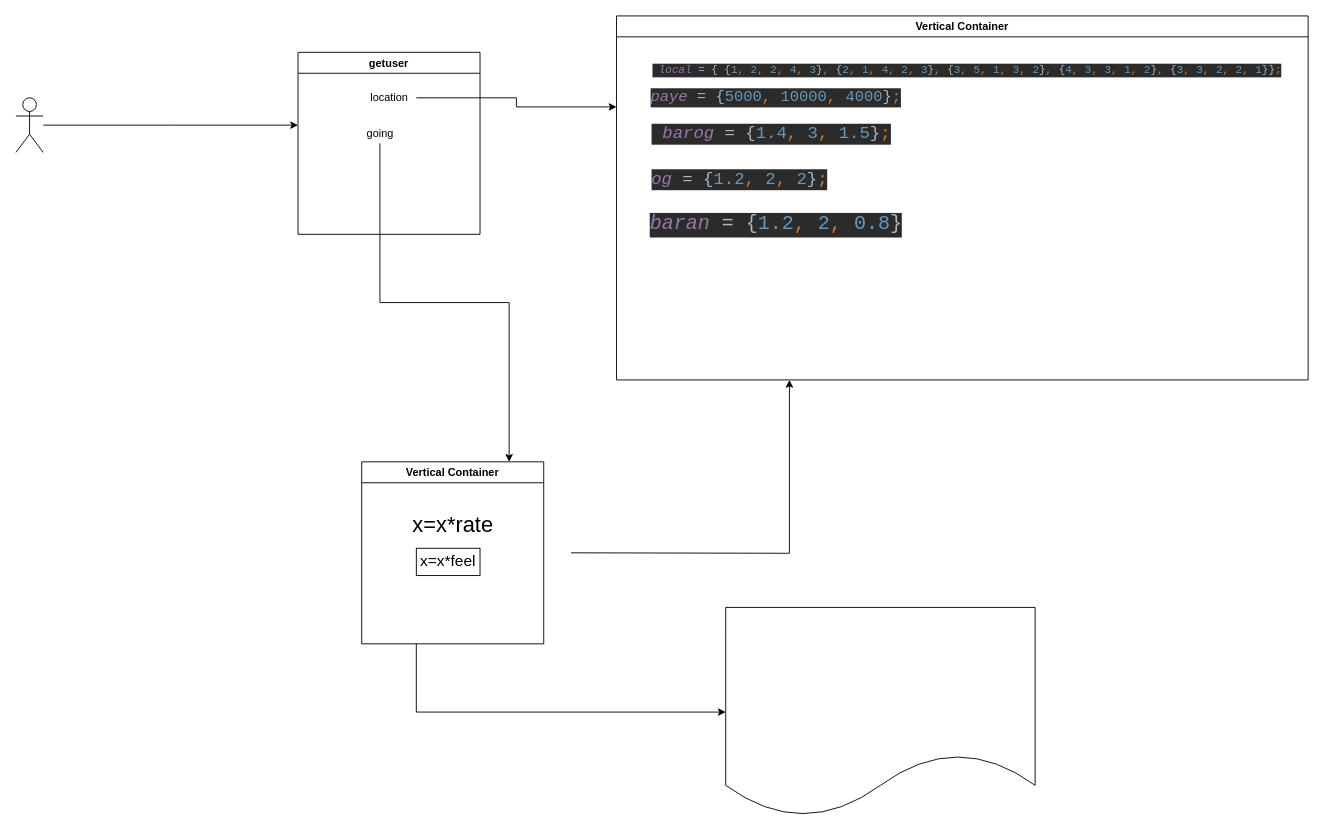
The diagram is 1324 pixels wide and 833 high, and some of its shapes have lost their labels. The shapes that lost their labels are listed below. From the top down, each one's centre as x and y in pixels, then its label:
At [29,124]: "Actor".
At [880,712]: "print payment".
